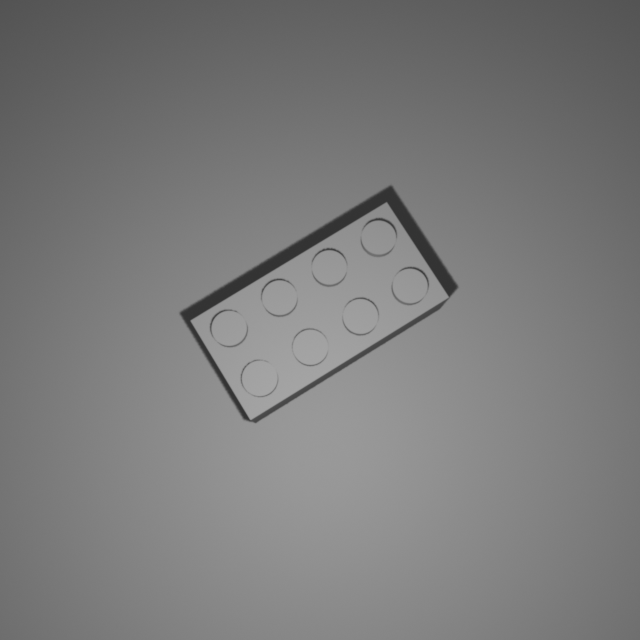lego_2x4: (189, 199, 451, 423)
